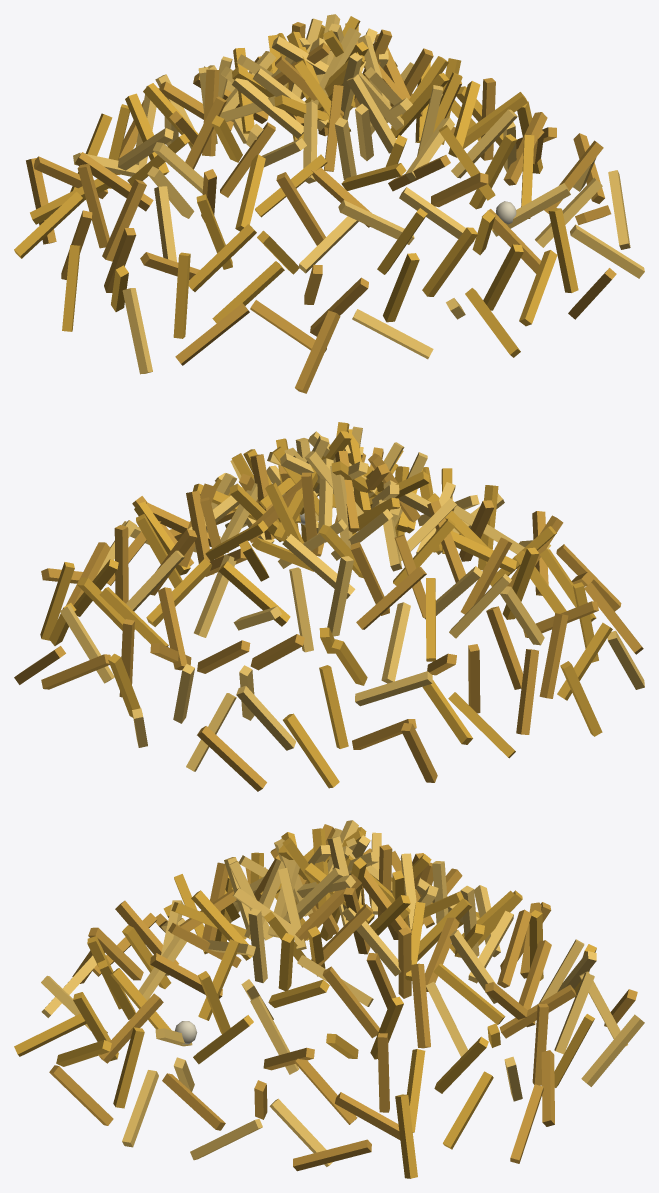
File: fry_mound.glb
The picture shows the model from 3 angles, top to bottom: view 1: azimuth 30°, elevation 25°; view 2: azimuth 150°, elevation 25°; view 3: azimuth 270°, elevation 25°; orthographic projection. The views are drawn at different scales.
Visible parts, largest first — view 1: fry_mound; view 2: fry_mound; view 3: fry_mound.
Boxes of the visible parts, bbox=[...] form: fry_mound: bbox=[14, 14, 644, 393]; fry_mound: bbox=[14, 422, 644, 791]; fry_mound: bbox=[14, 820, 644, 1178].
Bounding box in the file's own units: 11.72 × 4.99 × 12.05.
